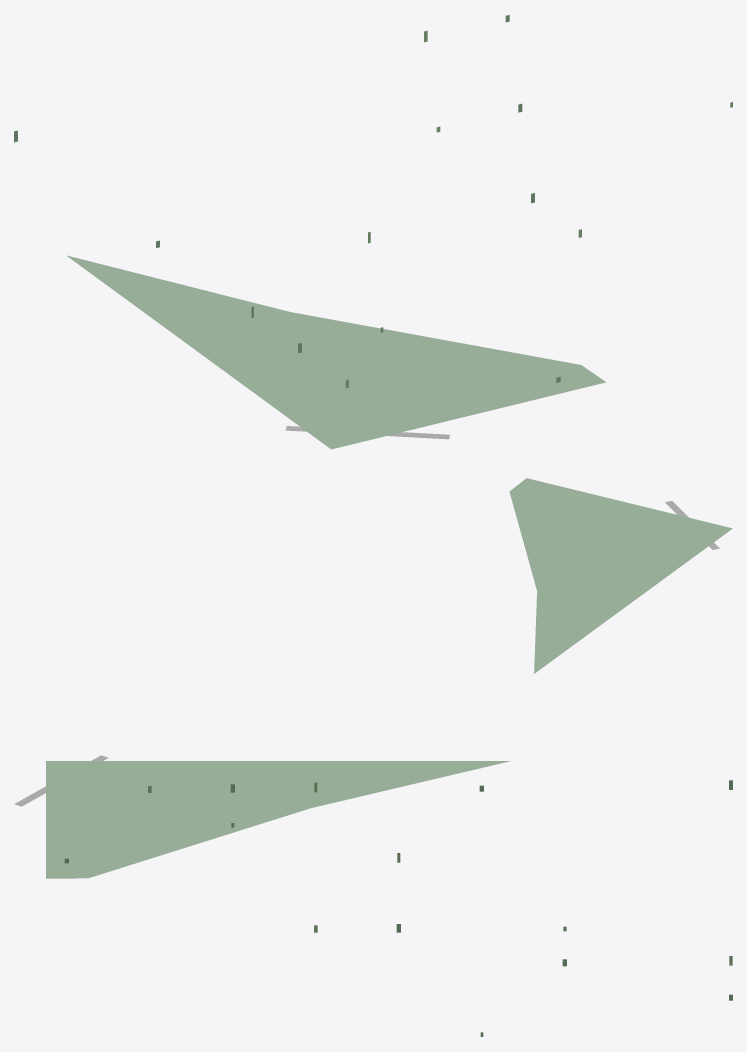
3 views of the same model, one above another, from view 1: azimuth 30°, elevation 25°; view 2: azimuth 150°, elevation 25°; view 3: azimuth 270°, elevation 25° (orthographic). The views are drawn at different scales.
Size of the model in its own units: 486 by 10.68 by 520.
